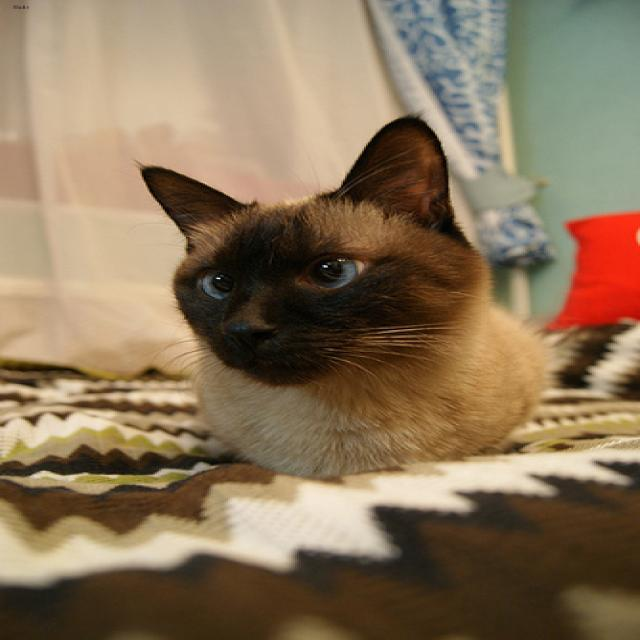Siamese: (138, 116, 445, 382)
